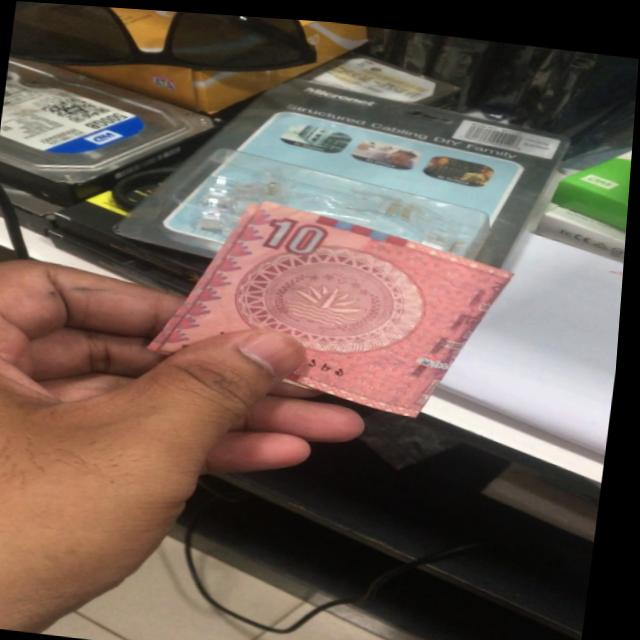Taka: (170, 188, 525, 422)
